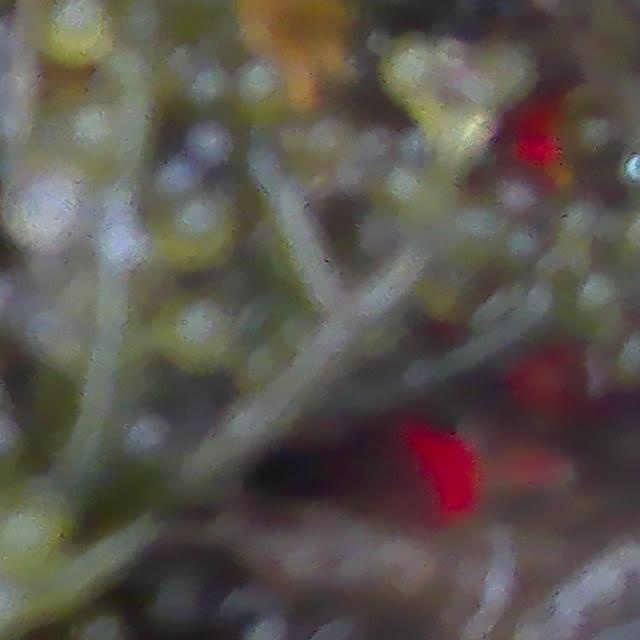SeaGrape: (7, 174, 82, 247), (96, 218, 145, 270)
